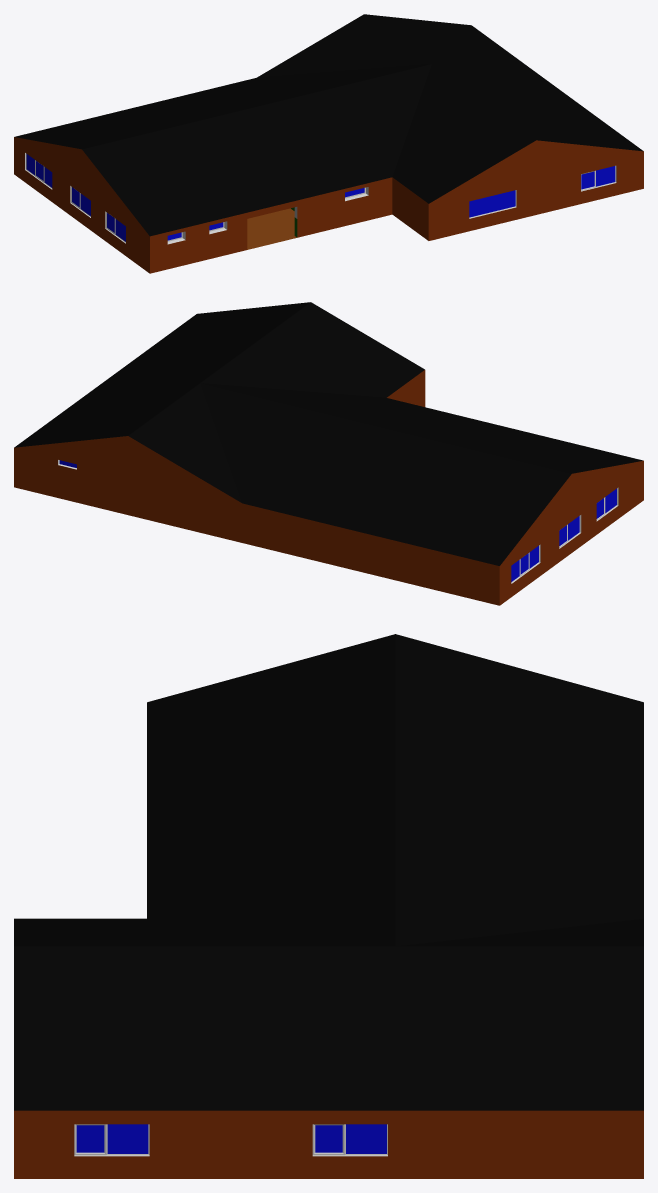
File: kindergartenSingleMesh.glb
3 views of the same model, one above another, from view 1: azimuth 30°, elevation 25°; view 2: azimuth 150°, elevation 25°; view 3: azimuth 270°, elevation 25° (orthographic). The views are drawn at different scales.
Parts seen in each view (by area): view 1: KindergartenBase; view 2: KindergartenBase; view 3: KindergartenBase, BedroomWindow.002, BedroomWindow.
Boxes of the visible parts, x1,y1,x2,y2 form: KindergartenBase: [14, 14, 643, 273]; KindergartenBase: [14, 302, 643, 605]; KindergartenBase: [14, 634, 643, 1178]; BedroomWindow.002: [74, 1124, 106, 1155]; BedroomWindow: [312, 1124, 344, 1155].
Size of the model in its own units: 38.5 by 6 by 25.1.
